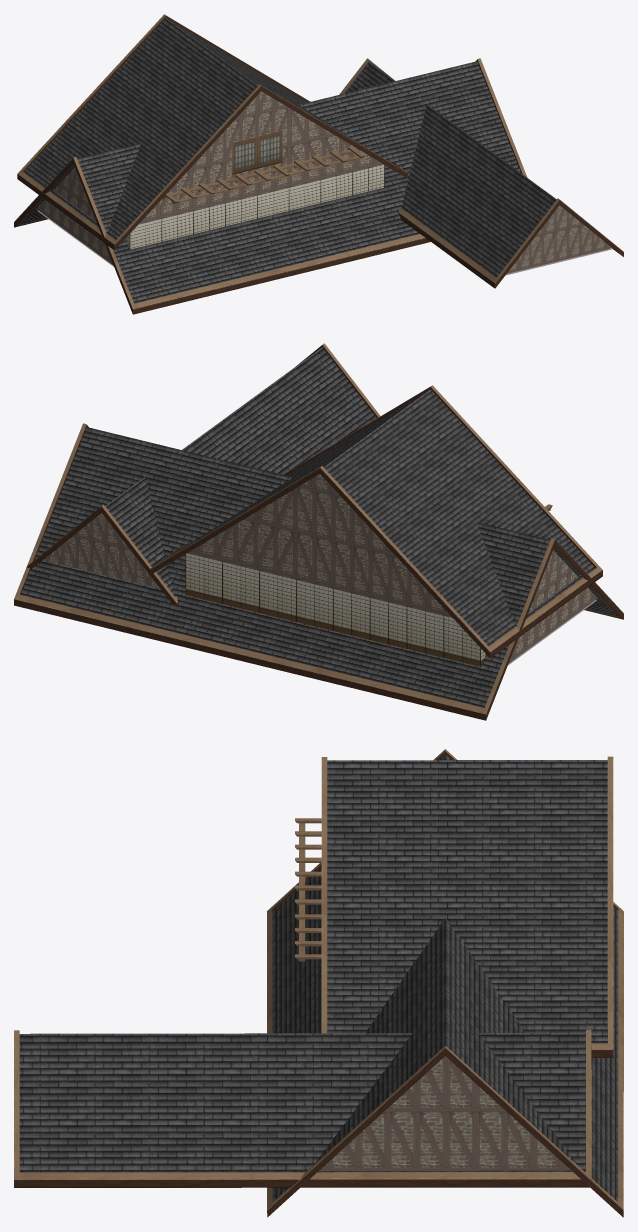
Rendered from rixi_wd.FBX.
3 views of the same model, one above another, from view 1: azimuth 30°, elevation 25°; view 2: azimuth 150°, elevation 25°; view 3: azimuth 270°, elevation 25° (orthographic). The views are drawn at different scales.
Visible parts, largest first — view 1: Group004, Group003, DrawCall_1633, DrawCall_1726, DrawCall_1728, DrawCall_1664, Rectangle001; view 2: Group004, Group003, DrawCall_1633, DrawCall_1726, DrawCall_1728; view 3: Group004, Group003, DrawCall_1728, DrawCall_1726, DrawCall_1664.
Boxes of the visible parts, left/top/right/bottom form: Group004: left=14, top=58, right=611, bottom=314; Group003: left=24, top=18, right=382, bottom=239; DrawCall_1633: left=126, top=164, right=384, bottom=249; DrawCall_1726: left=17, top=14, right=408, bottom=250; DrawCall_1728: left=339, top=58, right=623, bottom=288; DrawCall_1664: left=162, top=146, right=364, bottom=204; Rectangle001: left=232, top=130, right=282, bottom=174; Group004: left=14, top=347, right=623, bottom=720; Group003: left=178, top=389, right=595, bottom=646; DrawCall_1633: left=185, top=552, right=485, bottom=666; DrawCall_1726: left=150, top=385, right=602, bottom=658; DrawCall_1728: left=26, top=343, right=380, bottom=605; Group004: left=19, top=749, right=623, bottom=1217; Group003: left=327, top=760, right=607, bottom=1043; DrawCall_1728: left=14, top=1029, right=591, bottom=1187; DrawCall_1726: left=321, top=756, right=613, bottom=1057; DrawCall_1664: left=295, top=818, right=321, bottom=961.
Bounding box in the file's own units: 3313 × 1400 × 2862.
